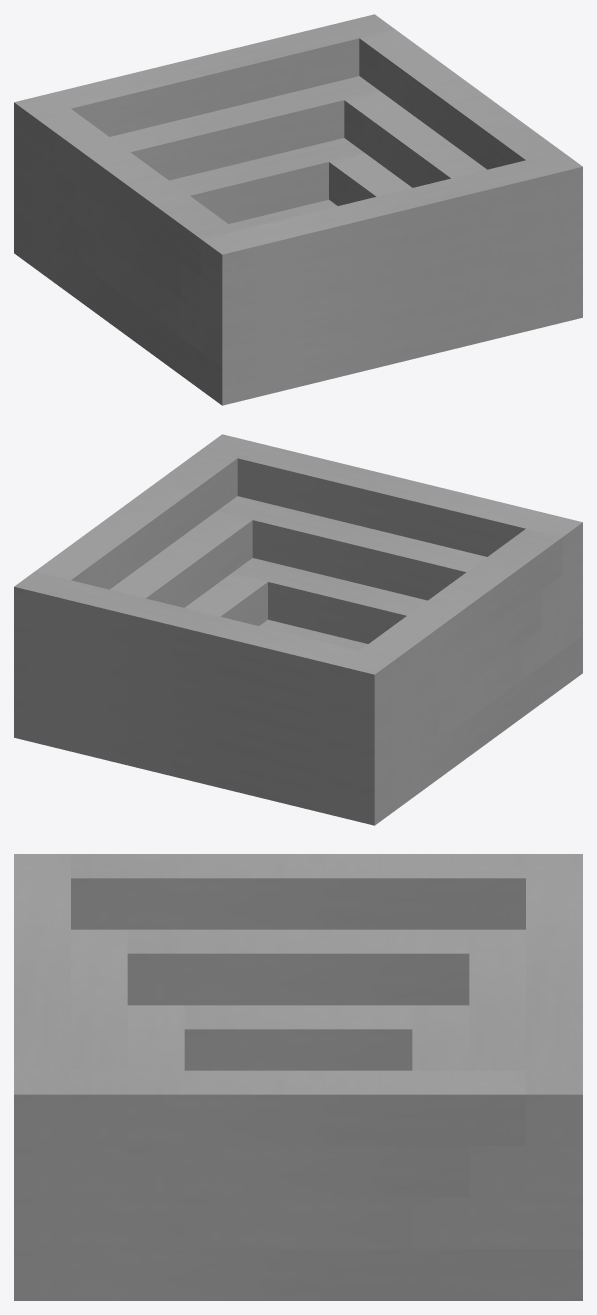
Rendered from mosaic_light_mono_small_base.obj.
3 views of the same model, one above another, from view 1: azimuth 30°, elevation 25°; view 2: azimuth 150°, elevation 25°; view 3: azimuth 270°, elevation 25° (orthographic). The views are drawn at different scales.
Visible parts, largest first — view 1: 0, 4, 3, 6, 5, 2, 9, 12, 1, 11, 8, 7 (+1 smaller); view 2: 0, 3, 4, 1, 2, 5, 9, 12, 6, 11, 8, 7 (+1 smaller); view 3: 9, 12, 0, 8, 11, 3, 4, 7, 2, 5, 1, 6 (+1 smaller).
Part boxes in pixels (x1,y1,x2,y2): 0: (14,199,582,405); 4: (201,151,582,292); 3: (14,14,395,154); 6: (159,242,582,367); 5: (180,204,582,329); 2: (14,76,379,207); 9: (34,108,236,276); 12: (359,29,561,169); 1: (14,138,364,260); 11: (344,91,486,187); 8: (55,171,180,299); 7: (76,223,159,321); 0: (14,619,582,825); 3: (14,571,395,712); 4: (201,434,582,574); 1: (14,662,437,787); 2: (14,624,416,749); 5: (217,496,582,627); 9: (360,528,562,696); 12: (35,449,237,589); 6: (232,558,582,680); 11: (110,511,252,607); 8: (416,591,541,719); 7: (437,643,520,741); 9: (71,854,525,929); 12: (71,1070,525,1145); 0: (14,1249,582,1300); 8: (127,929,469,1005); 11: (127,1146,469,1197); 3: (526,854,582,1145); 4: (14,854,70,1145); 7: (184,1005,412,1070); 2: (469,929,582,1197); 5: (14,929,127,1197); 1: (412,1005,582,1249); 6: (14,1005,184,1249).
Bounding box in the file's own units: 10 × 4 × 10.
